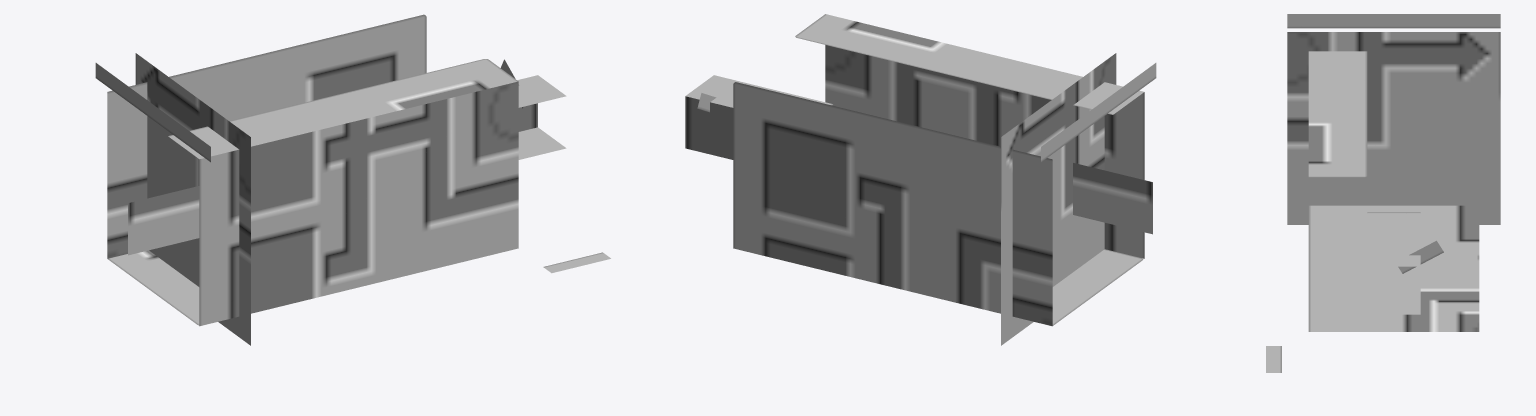
The model's file is ball_mill.obj.
The picture shows the model from 3 angles, left to right: view 1: azimuth 30°, elevation 25°; view 2: azimuth 150°, elevation 25°; view 3: azimuth 270°, elevation 25°; orthographic projection. The views are drawn at different scales.
Visible parts, largest first — view 1: cube; view 2: cube; view 3: cube.
Part boxes in pixels (left/top/right/bottom): cube: left=95, top=14, right=610, bottom=345; cube: left=685, top=14, right=1156, bottom=345; cube: left=1266, top=14, right=1500, bottom=372.
Bounding box in the file's own units: 5.88 × 2.75 × 3.
